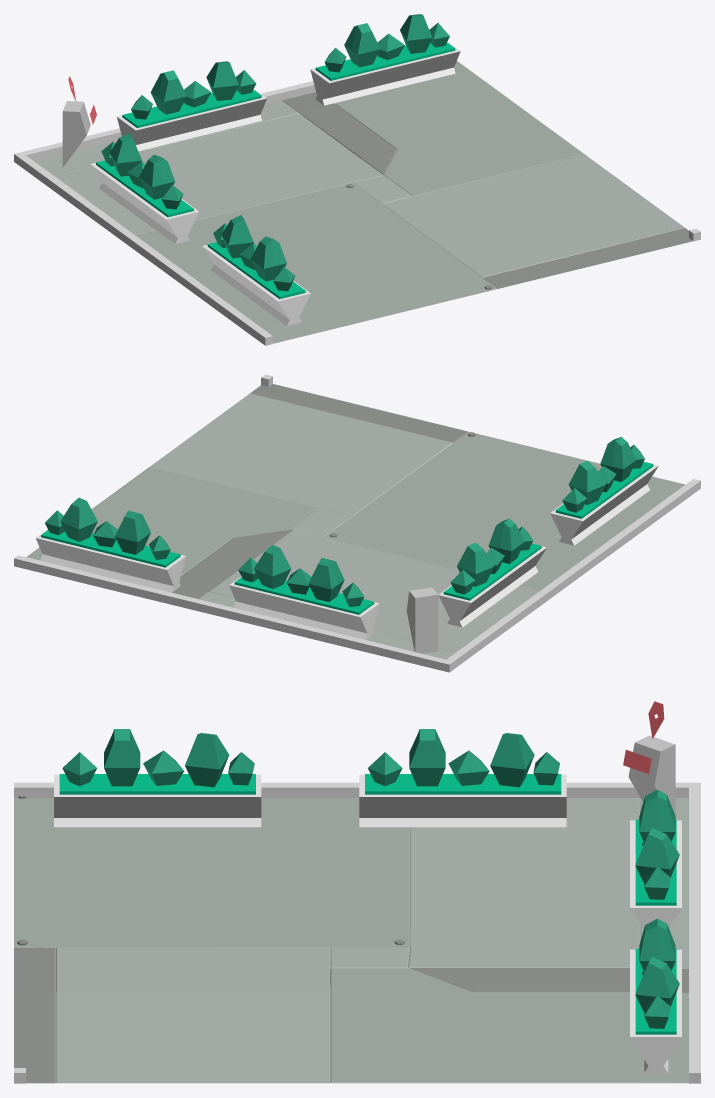
3 views of the same model, one above another, from view 1: azimuth 30°, elevation 25°; view 2: azimuth 150°, elevation 25°; view 3: azimuth 270°, elevation 25° (orthographic). The views are drawn at different scales.
Visible parts, largest first — view 1: Scifi_Panel_04_Plaza014_group4.035_Scifi_Panel_04_Plaza014_g, base_pot.021_base_pot.025, base_pot.020_base_pot.024, base_pot.019_base_pot.023, base_pot.018_base_pot.022, Cube.1033_Cube.1157, panel.013_panel.020; view 2: Scifi_Panel_04_Plaza014_group4.035_Scifi_Panel_04_Plaza014_g, Cube.1033_Cube.1157, base_pot.020_base_pot.024, base_pot.021_base_pot.025, base_pot.018_base_pot.022, base_pot.019_base_pot.023, panel.013_panel.020; view 3: Scifi_Panel_04_Plaza014_group4.035_Scifi_Panel_04_Plaza014_g, base_pot.018_base_pot.022, base_pot.019_base_pot.023, Cube.1033_Cube.1157, base_pot.021_base_pot.025, base_pot.020_base_pot.024, panel.013_panel.020.
Boxes of the visible parts, x1,y1,x2,y2 form: Scifi_Panel_04_Plaza014_group4.035_Scifi_Panel_04_Plaza014_g: (34,61,692,343); base_pot.021_base_pot.025: (310,14,460,105); base_pot.020_base_pot.024: (117,61,266,151); base_pot.019_base_pot.023: (202,215,310,325); base_pot.018_base_pot.022: (90,133,198,243); Cube.1033_Cube.1157: (14,81,315,345); panel.013_panel.020: (62,76,96,167); Scifi_Panel_04_Plaza014_group4.035_Scifi_Panel_04_Plaza014_g: (26,384,685,659); Cube.1033_Cube.1157: (14,479,700,672); base_pot.020_base_pot.024: (229,545,379,639); base_pot.021_base_pot.025: (36,497,185,592); base_pot.018_base_pot.022: (438,518,546,627); base_pot.019_base_pot.023: (550,437,658,545); panel.013_panel.020: (406,587,438,653); Scifi_Panel_04_Plaza014_group4.035_Scifi_Panel_04_Plaza014_g: (14,795,688,1083); base_pot.018_base_pot.022: (359,729,566,827); base_pot.019_base_pot.023: (54,729,261,827); Cube.1033_Cube.1157: (14,782,700,1083); base_pot.021_base_pot.025: (630,918,681,1073); base_pot.020_base_pot.024: (630,789,681,929); panel.013_panel.020: (623,701,675,815).
Bounding box in the file's own units: 10 × 1.89 × 10.
